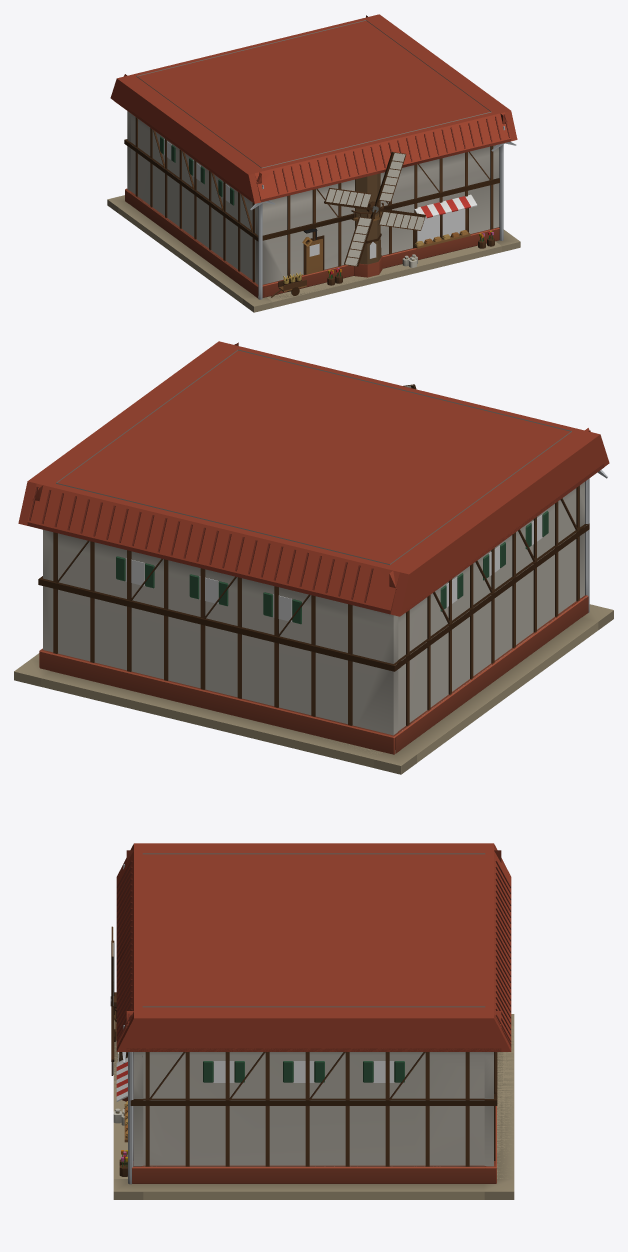
File: FanVultureFloor.fbx
3 views of the same model, one above another, from view 1: azimuth 30°, elevation 25°; view 2: azimuth 150°, elevation 25°; view 3: azimuth 270°, elevation 25° (orthographic). The views are drawn at different scales.
Visible parts, largest first — view 1: WM_S_All, WM_F_Rings, WM_F_Smooth, WM_F_Quiet, WM_F_Glass, WM_F_Props; view 2: WM_S_All, WM_F_Rings, WM_F_Smooth, WM_F_Quiet, WM_F_Glass; view 3: WM_S_All, WM_F_Rings, WM_F_Smooth, WM_F_Quiet, WM_F_Glass, WM_F_Props.
Boxes of the visible parts, x1=… form: WM_S_All: x1=108, y1=14, x2=520, y2=312; WM_F_Rings: x1=116, y1=15, x2=510, y2=298; WM_F_Smooth: x1=107, y1=100, x2=520, y2=312; WM_F_Quiet: x1=108, y1=195, x2=519, y2=306; WM_F_Glass: x1=164, y1=139, x2=465, y2=258; WM_F_Props: x1=284, y1=194, x2=494, y2=281; WM_S_All: x1=16, y1=341, x2=613, y2=774; WM_F_Rings: x1=27, y1=342, x2=603, y2=754; WM_F_Smooth: x1=14, y1=344, x2=613, y2=774; WM_F_Quiet: x1=14, y1=604, x2=613, y2=765; WM_F_Glass: x1=126, y1=515, x2=542, y2=621; WM_S_All: x1=112, y1=843, x2=514, y2=1199; WM_F_Rings: x1=116, y1=848, x2=511, y2=1183; WM_F_Smooth: x1=110, y1=861, x2=513, y2=1199; WM_F_Quiet: x1=114, y1=1014, x2=513, y2=1191; WM_F_Glass: x1=118, y1=1052, x2=393, y2=1082; WM_F_Props: x1=113, y1=992, x2=127, y2=1168.
Bounding box in the file's own units: 60 × 20 × 60.
